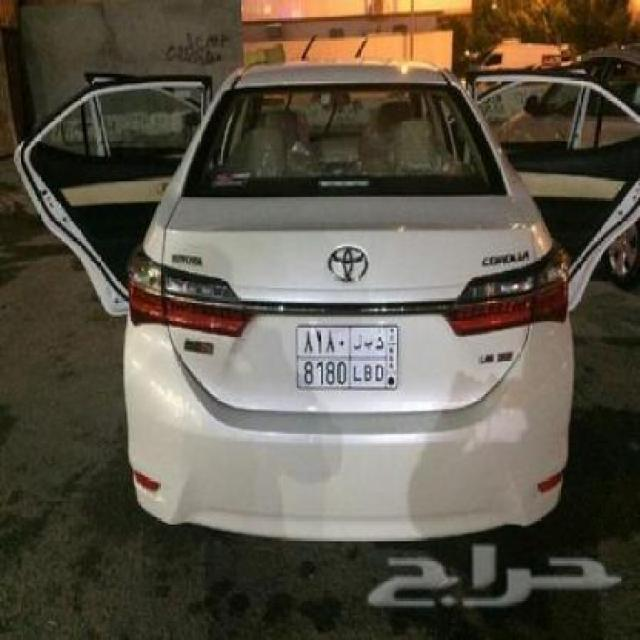license_plate: (294, 321, 402, 394)
